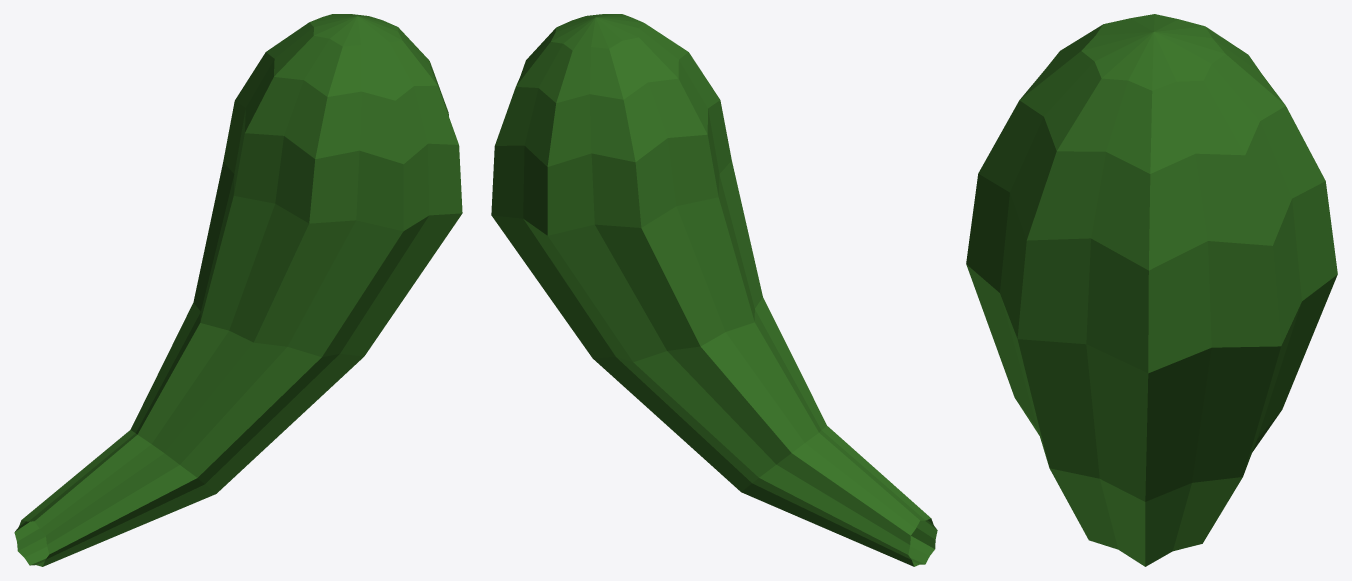
Rendered from Cactus_39_A.fbx.
The picture shows the model from 3 angles, left to right: view 1: azimuth 30°, elevation 25°; view 2: azimuth 150°, elevation 25°; view 3: azimuth 270°, elevation 25°; orthographic projection. The views are drawn at different scales.
Visible parts, largest first — view 1: Cactus_39_A; view 2: Cactus_39_A; view 3: Cactus_39_A.
Part boxes in pixels (left/top/right/bottom): Cactus_39_A: left=14, top=14, right=462, bottom=566; Cactus_39_A: left=491, top=14, right=937, bottom=566; Cactus_39_A: left=966, top=14, right=1337, bottom=566.
Bounding box in the file's own units: 64.51 × 68.52 × 33.21.
